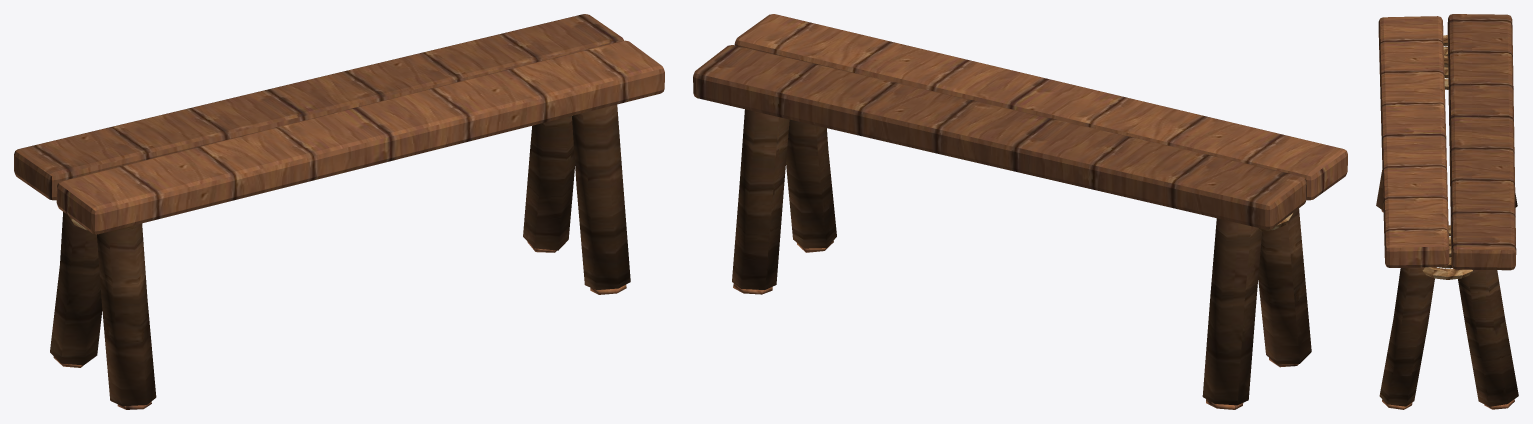
File: shack_bench.glb
3 views of the same model, side by side, from view 1: azimuth 30°, elevation 25°; view 2: azimuth 150°, elevation 25°; view 3: azimuth 270°, elevation 25° (orthographic). The views are drawn at different scales.
Parts seen in each view (by area): view 1: model; view 2: model; view 3: model.
Part boxes in pixels (x1=…): model: x1=14, y1=14, x2=664, y2=409; model: x1=693, y1=14, x2=1347, y2=409; model: x1=1376, y1=14, x2=1518, y2=409.
Size of the model in its own units: 1.3 by 0.474 by 0.3365.
Materials: 8 (8 with a texture image).
